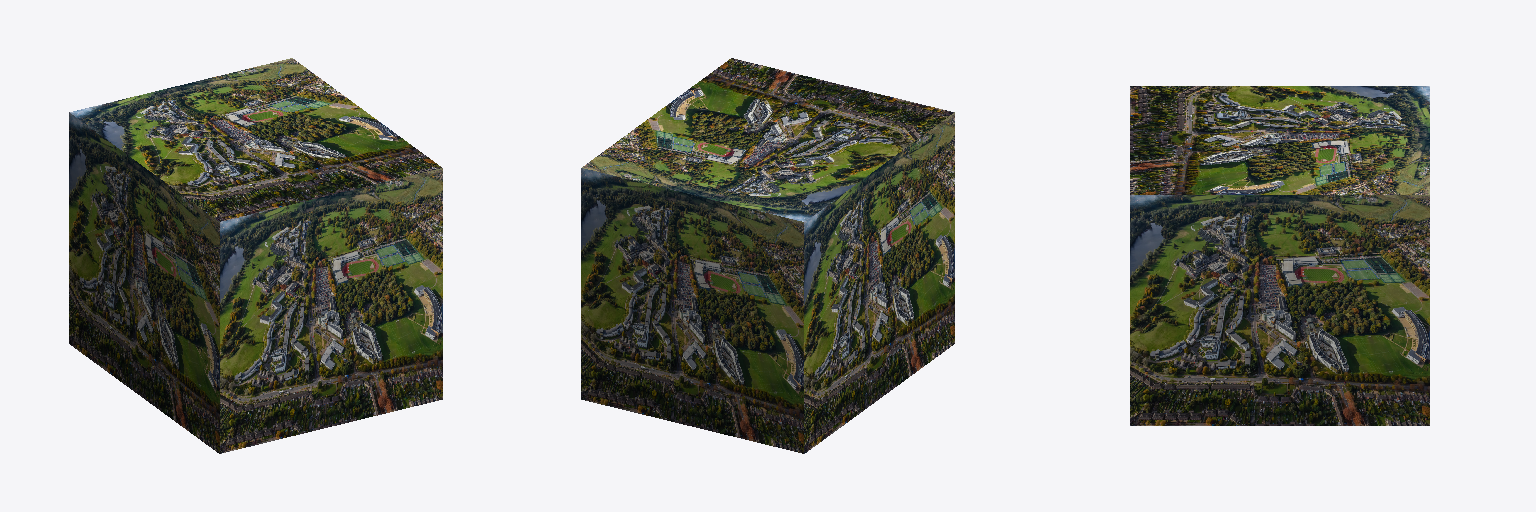
3 views of the same model, side by side, from view 1: azimuth 30°, elevation 25°; view 2: azimuth 150°, elevation 25°; view 3: azimuth 270°, elevation 25° (orthographic).
Visible parts, largest first — view 1: Box001; view 2: Box001; view 3: Box001.
Part boxes in pixels (left/top/right/bottom): Box001: left=69, top=58, right=442, bottom=453; Box001: left=581, top=58, right=954, bottom=453; Box001: left=1130, top=86, right=1429, bottom=425.
Size of the model in its own units: 33.61 by 33.38 by 39.17.
1 materials, 1 textured.